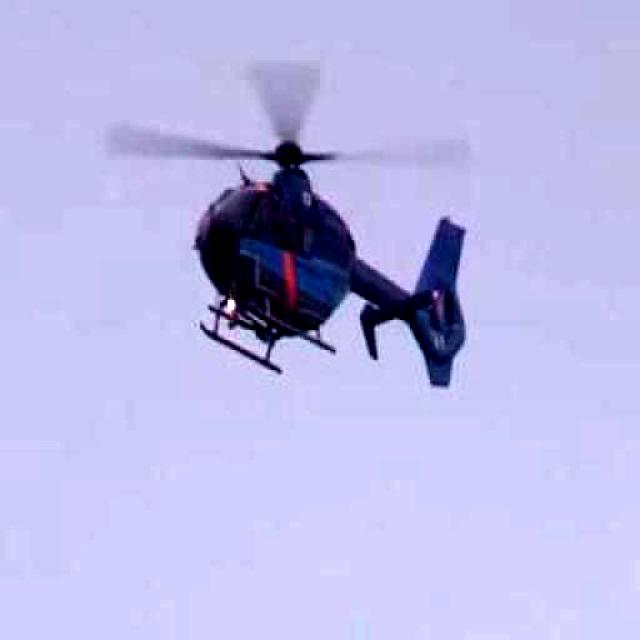drone: (101, 28, 539, 440)
